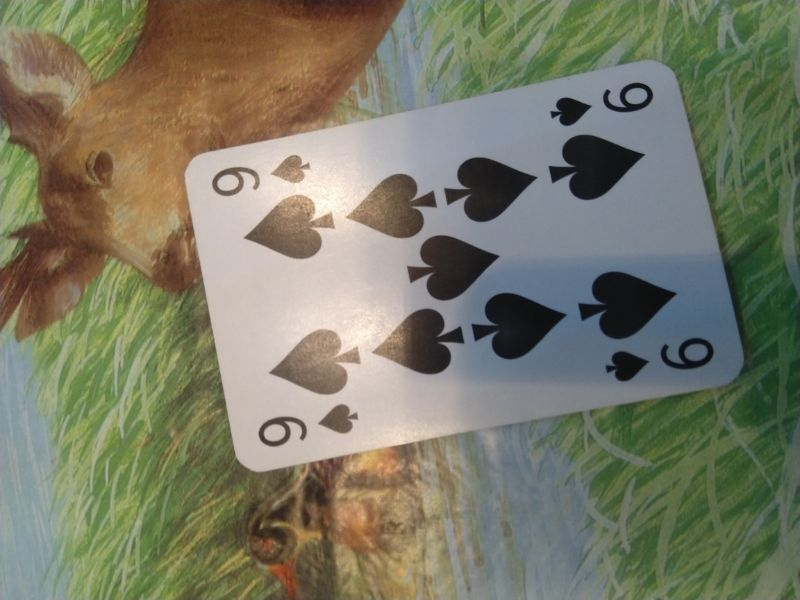9s: (599, 333, 721, 387), (546, 80, 667, 131), (251, 398, 365, 450), (209, 153, 322, 198)
